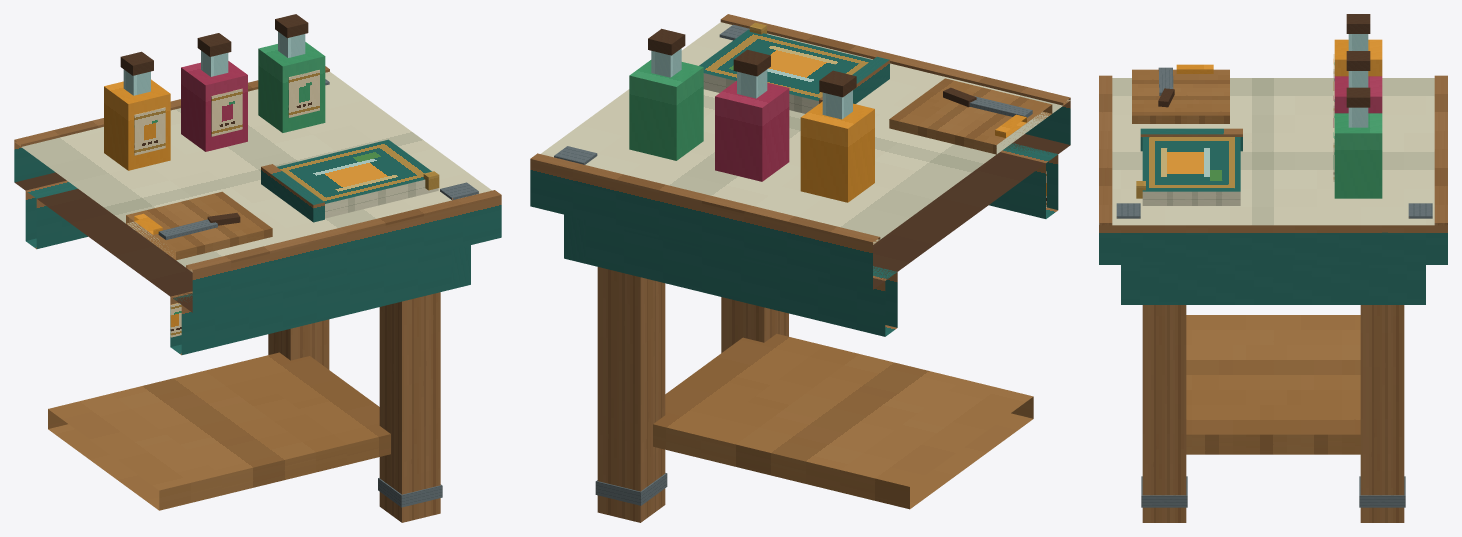
Rendered from juice_table_right.obj.
3 renders of one model, left to right at view 1: azimuth 30°, elevation 25°; view 2: azimuth 150°, elevation 25°; view 3: azimuth 270°, elevation 25°, orthographic. The views are drawn at different scales.
Visible parts, largest first — view 1: part_1_clean_countertop, part_8_single_lower_shelf, part_5_simple_leg_28_12, part_7_simple_apron_13, part_62_recipe_book_pages_and_painted_cover, part_58_oak_chopping_board, part_41_juice_bottle_body_2, part_33_juice_bottle_body_0, part_37_juice_bottle_body_1, part_18_oak_breadboard_edge_15_4, part_6_simple_apron_2, part_4_simple_leg_28_2 (+14 smaller); view 2: part_1_clean_countertop, part_8_single_lower_shelf, part_4_simple_leg_28_2, part_6_simple_apron_2, part_41_juice_bottle_body_2, part_33_juice_bottle_body_0, part_37_juice_bottle_body_1, part_62_recipe_book_pages_and_painted_cover, part_58_oak_chopping_board, part_17_oak_breadboard_edge_0, part_18_oak_breadboard_edge_15_4, part_7_simple_apron_13 (+11 smaller); view 3: part_1_clean_countertop, part_8_single_lower_shelf, part_20_end_apron_29, part_4_simple_leg_28_2, part_5_simple_leg_28_12, part_62_recipe_book_pages_and_painted_cover, part_58_oak_chopping_board, part_41_juice_bottle_body_2, part_17_oak_breadboard_edge_0, part_18_oak_breadboard_edge_15_4, part_37_juice_bottle_body_1, part_33_juice_bottle_body_0 (+7 smaller).
Boxes of the visible parts, x1,y1,x2,y2 form: part_1_clean_countertop: [14, 71, 501, 312]; part_8_single_lower_shelf: [48, 352, 390, 510]; part_5_simple_leg_28_12: [379, 292, 440, 522]; part_7_simple_apron_13: [170, 250, 451, 355]; part_62_recipe_book_pages_and_painted_cover: [277, 139, 438, 218]; part_58_oak_chopping_board: [126, 191, 272, 260]; part_41_juice_bottle_body_2: [258, 42, 325, 132]; part_33_juice_bottle_body_0: [104, 79, 170, 170]; part_37_juice_bottle_body_1: [181, 61, 247, 151]; part_18_oak_breadboard_edge_15_4: [186, 190, 501, 272]; part_6_simple_apron_2: [25, 180, 87, 249]; part_4_simple_leg_28_2: [268, 319, 329, 369]; part_1_clean_countertop: [530, 22, 1070, 289]; part_8_single_lower_shelf: [653, 334, 1033, 509]; part_4_simple_leg_28_2: [597, 267, 665, 522]; part_6_simple_apron_2: [585, 220, 897, 336]; part_41_juice_bottle_body_2: [629, 60, 703, 160]; part_33_juice_bottle_body_0: [800, 101, 874, 202]; part_37_juice_bottle_body_1: [715, 80, 789, 181]; part_62_recipe_book_pages_and_painted_cover: [699, 29, 871, 113]; part_58_oak_chopping_board: [889, 78, 1052, 154]; part_17_oak_breadboard_edge_0: [530, 153, 880, 244]; part_18_oak_breadboard_edge_15_4: [720, 14, 1070, 105]; part_7_simple_apron_13: [989, 143, 1058, 218]; part_1_clean_countertop: [1099, 78, 1447, 264]; part_8_single_lower_shelf: [1186, 315, 1360, 454]; part_20_end_apron_29: [1121, 265, 1425, 304]; part_4_simple_leg_28_2: [1360, 305, 1404, 522]; part_5_simple_leg_28_12: [1142, 305, 1186, 522]; part_62_recipe_book_pages_and_painted_cover: [1142, 137, 1240, 205]; part_58_oak_chopping_board: [1132, 69, 1229, 123]; part_41_juice_bottle_body_2: [1334, 113, 1382, 198]; part_17_oak_breadboard_edge_0: [1434, 75, 1447, 225]; part_18_oak_breadboard_edge_15_4: [1099, 75, 1112, 225]; part_37_juice_bottle_body_1: [1334, 76, 1382, 113]; part_33_juice_bottle_body_0: [1334, 39, 1382, 76].
Bounding box in the file's own units: 1 × 1.3 × 1.
